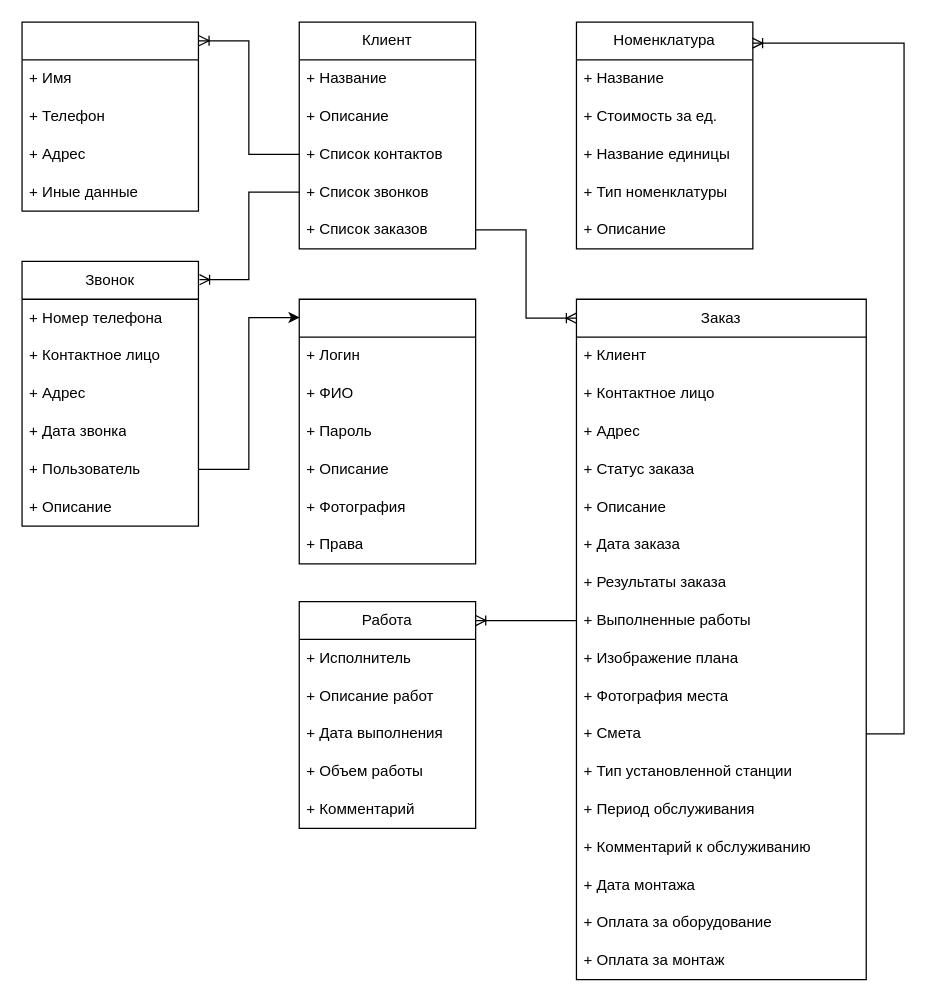
The diagram is 936 pixels wide and 1002 high, and some of its shapes have lost their labels. The shapes that lost their labels are listed below. From the top down, each one's box as (x1, y1, x2, y2) in pixels, then its label:
(21, 21, 198, 211): Контакт
(298, 298, 476, 564): Пользователь
